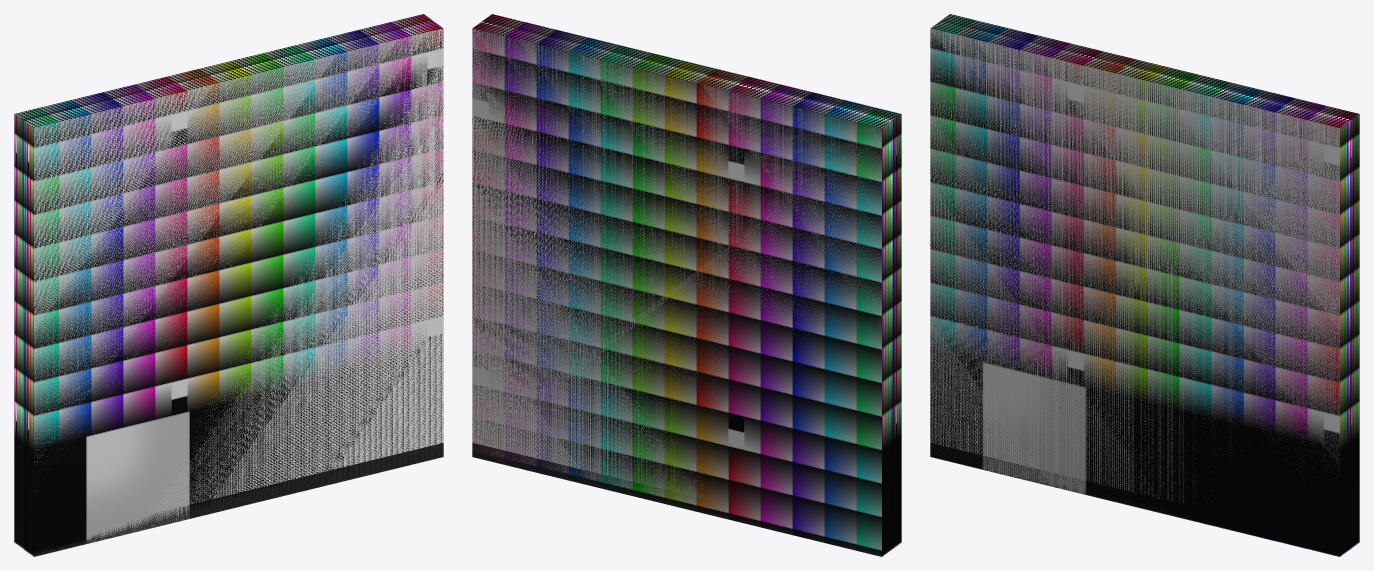
File: interiorWall_line_3_white.fbx
The picture shows the model from 3 angles, left to right: view 1: azimuth 30°, elevation 25°; view 2: azimuth 150°, elevation 25°; view 3: azimuth 330°, elevation 25°; orthographic projection.
Visible parts, largest first — view 1: interiorWall_line_3_trigger_white, interiorWall_line_3_white; view 2: interiorWall_line_3_trigger_white, interiorWall_line_3_white; view 3: interiorWall_line_3_trigger_white, interiorWall_line_3_white.
Boxes of the visible parts, x1=… form: interiorWall_line_3_trigger_white: x1=14, y1=14, x2=443, y2=556; interiorWall_line_3_white: x1=34, y1=28, x2=443, y2=556; interiorWall_line_3_trigger_white: x1=472, y1=14, x2=901, y2=556; interiorWall_line_3_white: x1=472, y1=28, x2=881, y2=515; interiorWall_line_3_trigger_white: x1=930, y1=14, x2=1359, y2=556; interiorWall_line_3_white: x1=930, y1=28, x2=1339, y2=556.
Size of what is drawn, in the model's own units: 300 by 300 by 25.
